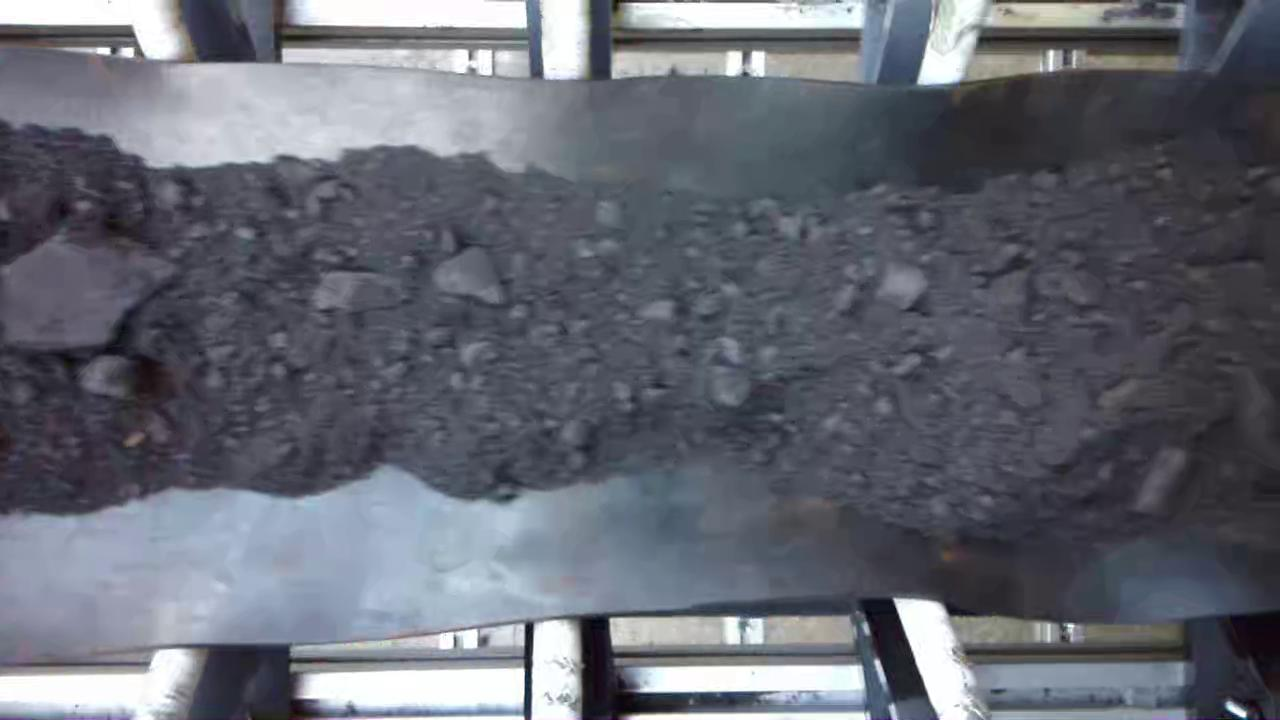conveyor: (13, 89, 1276, 609)
